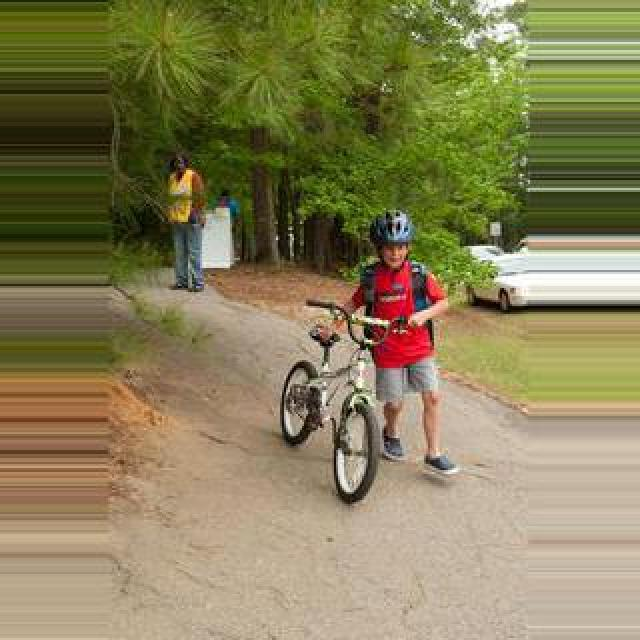Bus-Bike: (464, 238, 638, 312)
MC-Bike: (338, 210, 456, 484), (162, 154, 208, 292)
Person: (279, 300, 395, 506)
